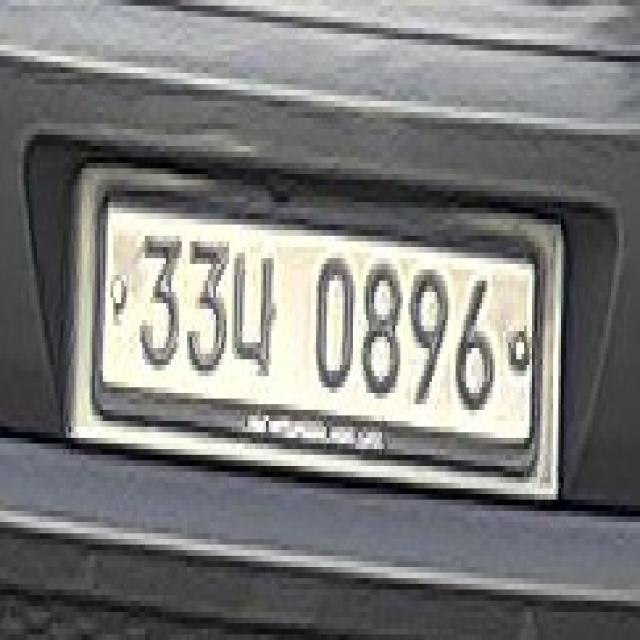0: (314, 253, 356, 393)
3: (182, 230, 229, 382), (137, 224, 182, 370)
6: (450, 275, 496, 410)
8: (361, 258, 403, 404)
9: (406, 264, 448, 410)
license_plate: (98, 185, 534, 455)
na: (232, 247, 279, 382)
